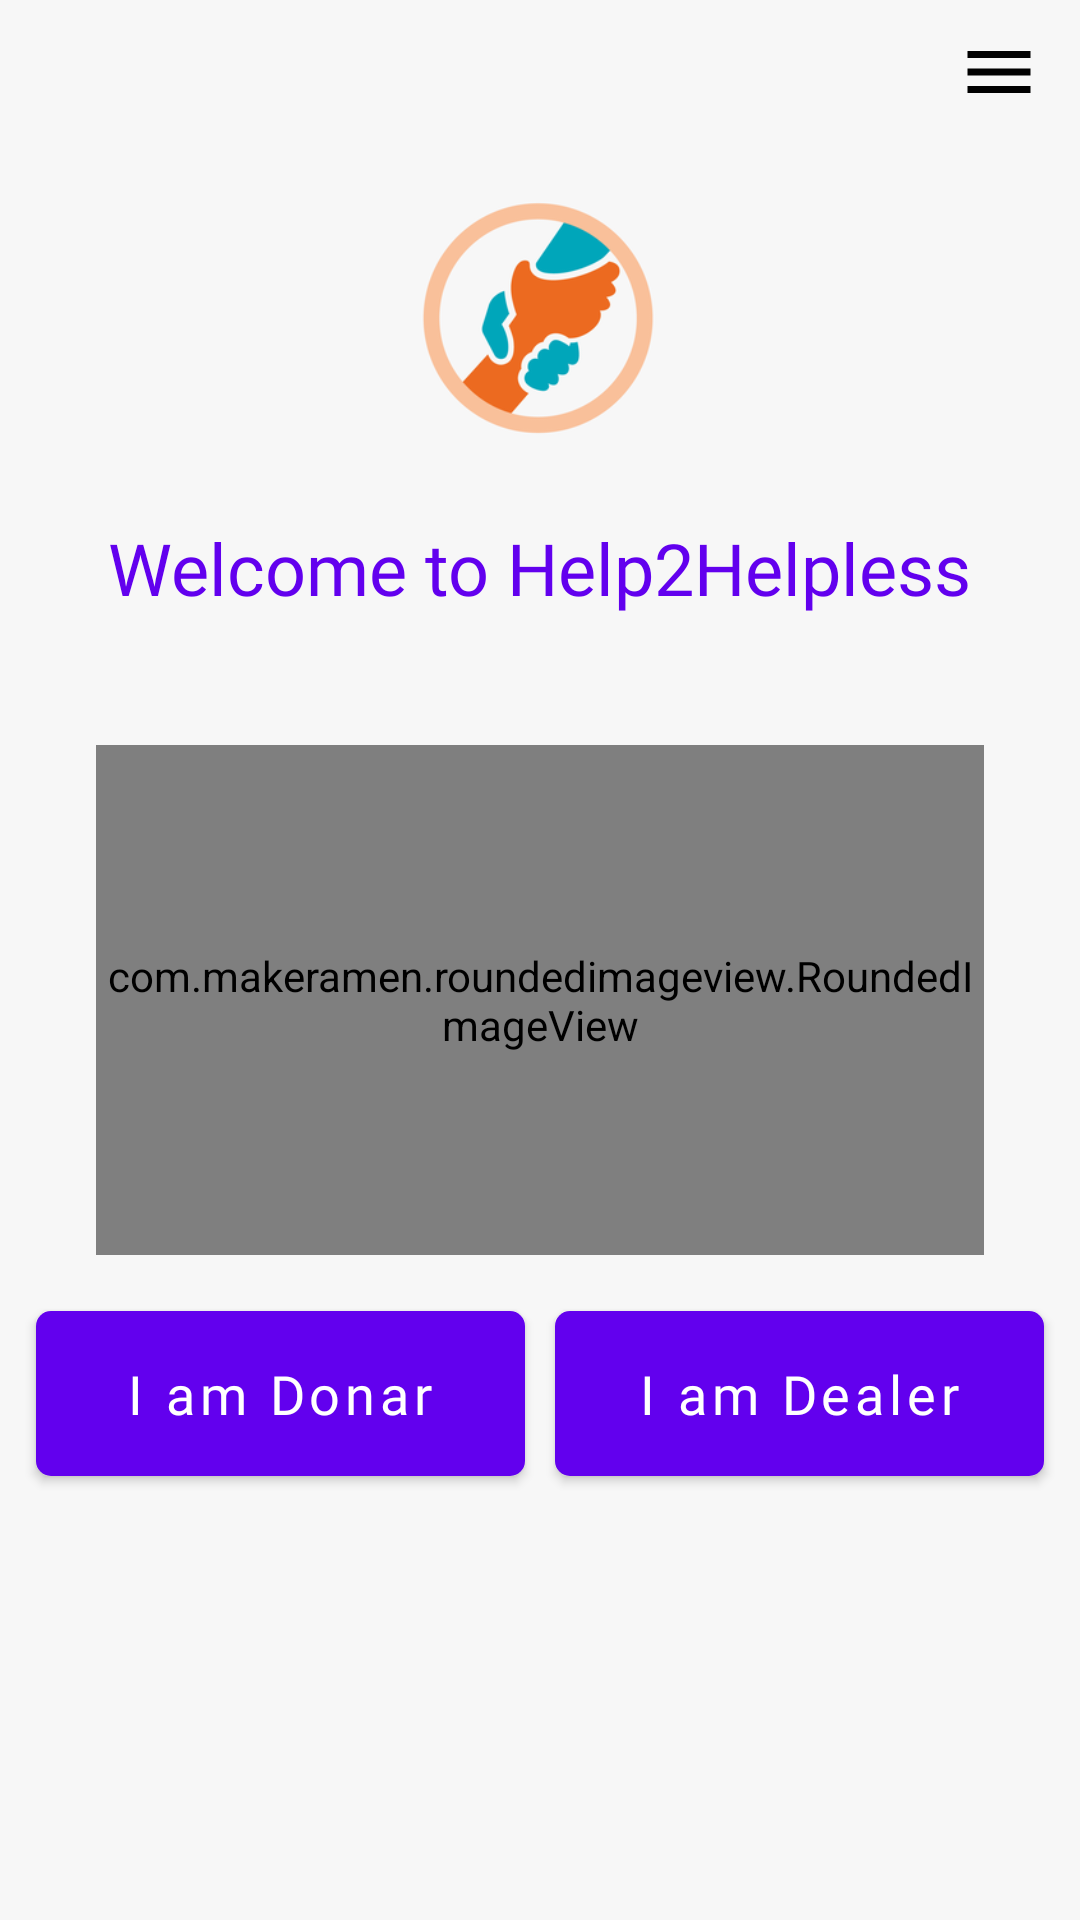

Where to tap for icons on this 1080 × 1920 app screen, as (x=x, y=y):
menu: (x=999, y=72)
